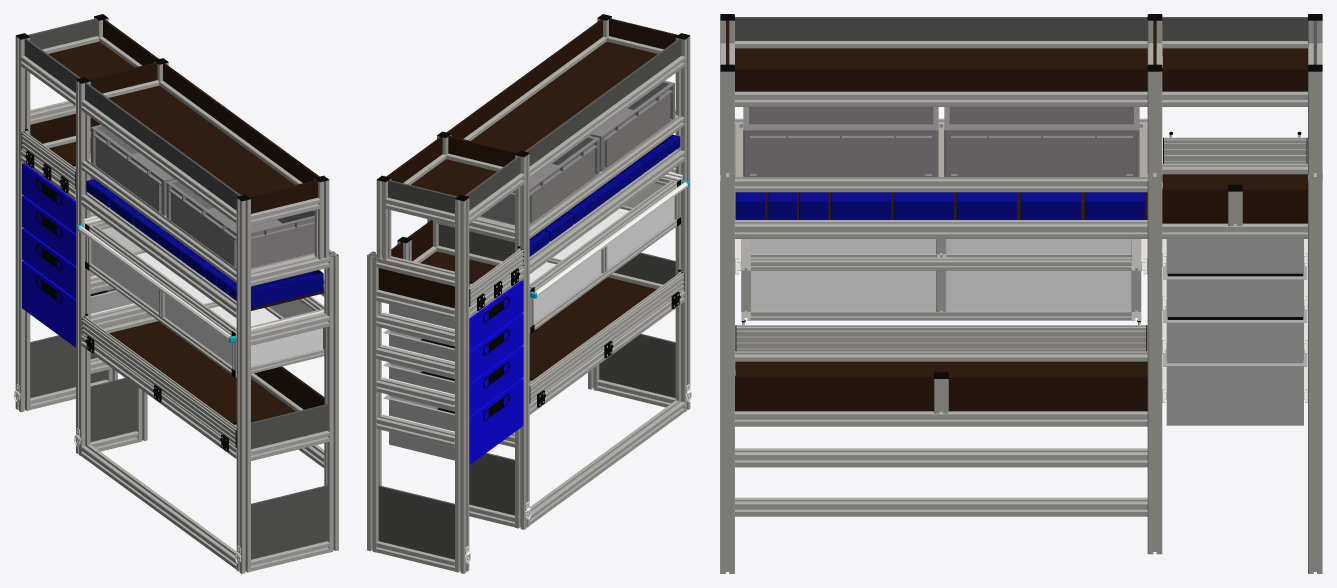
The model's file is vandr_build_4910.glb.
3 renders of one model, left to right at view 1: azimuth 30°, elevation 25°; view 2: azimuth 150°, elevation 25°; view 3: azimuth 270°, elevation 25°, orthographic. The views are drawn at different scales.
Visible parts, largest first — view 1: n1; view 2: n1; view 3: n1.
Part boxes in pixels (x1=…): n1: x1=14, y1=14, x2=338, y2=573; n1: x1=367, y1=14, x2=691, y2=573; n1: x1=720, y1=14, x2=1322, y2=573.
Bounding box in the file's own units: 485 × 1683 × 1849.
